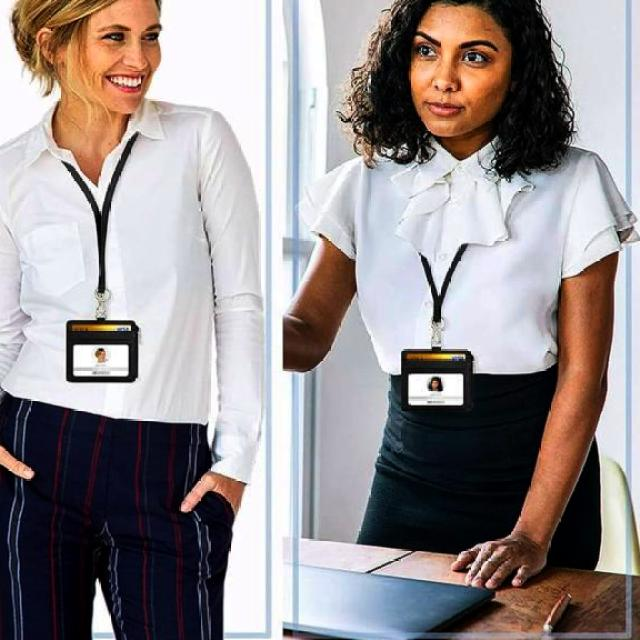ID_card: (62, 184, 152, 392), (399, 272, 478, 404)
